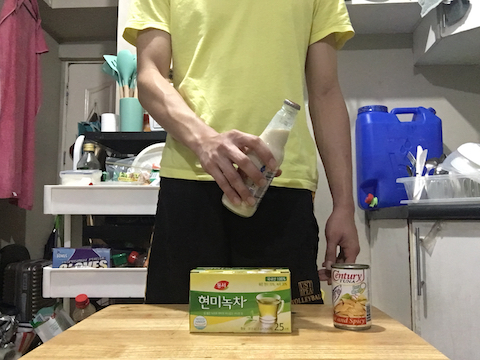bottle: (220, 94, 304, 220)
box: (186, 264, 295, 336)
can: (329, 260, 371, 329)
grab: (205, 127, 279, 209)
